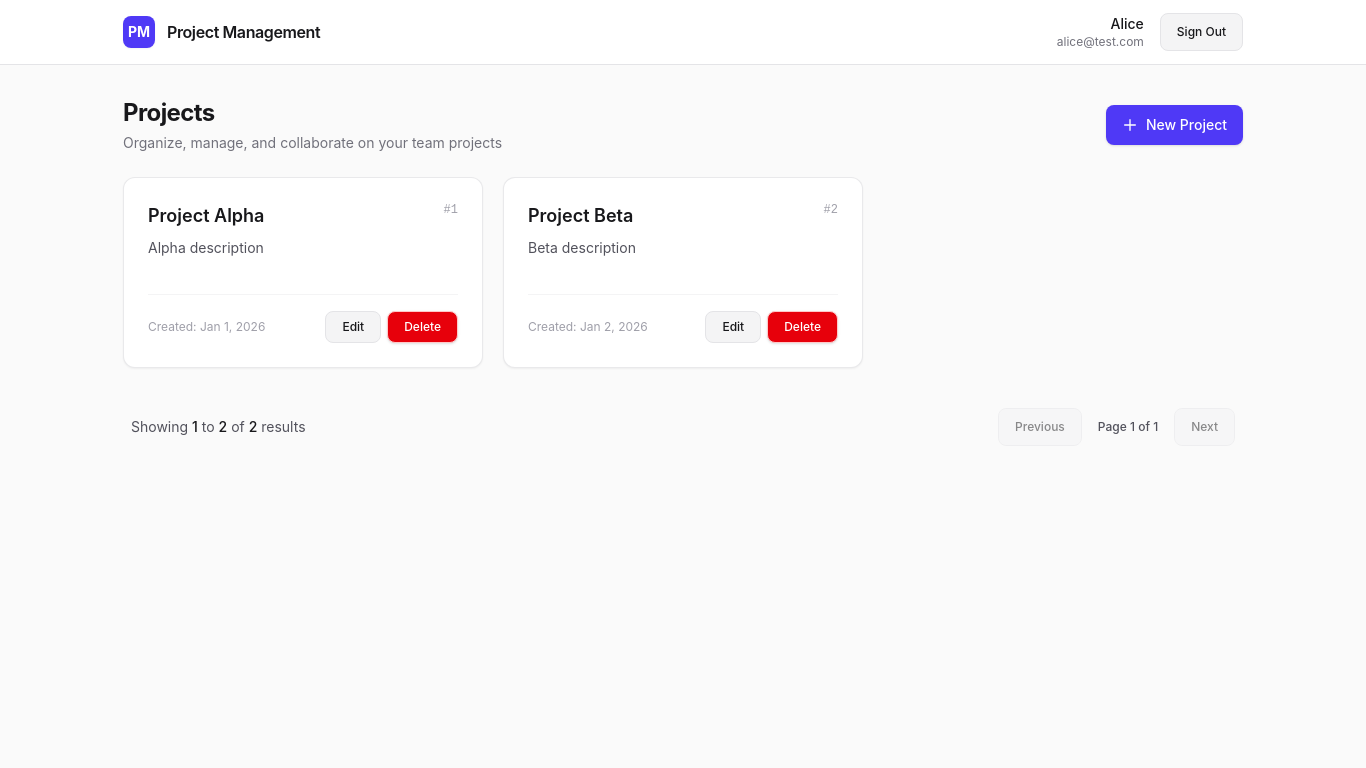
Test: DashboardPage (TDD) › should open create modal when clicking "New Project" button
Expected: the link "Project Alpha" is shown, x1=148 y1=202 x2=264 y2=230
Click the button "New Project": (1174, 125) x1=1106 y1=105 x2=1243 y2=145
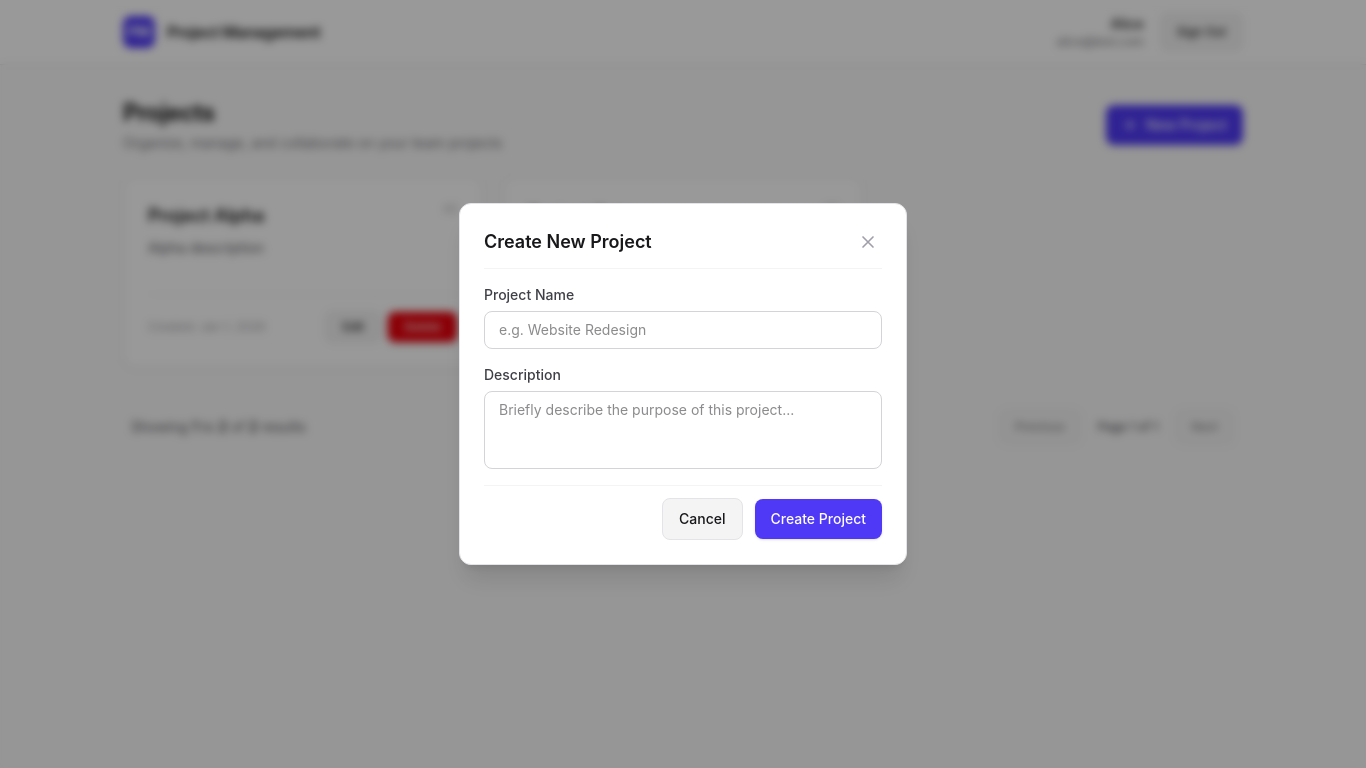
Expected: the heading "Create New Project" is shown, x1=484 y1=228 x2=652 y2=256
